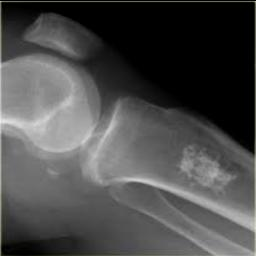cancer: (175, 141, 243, 198)
